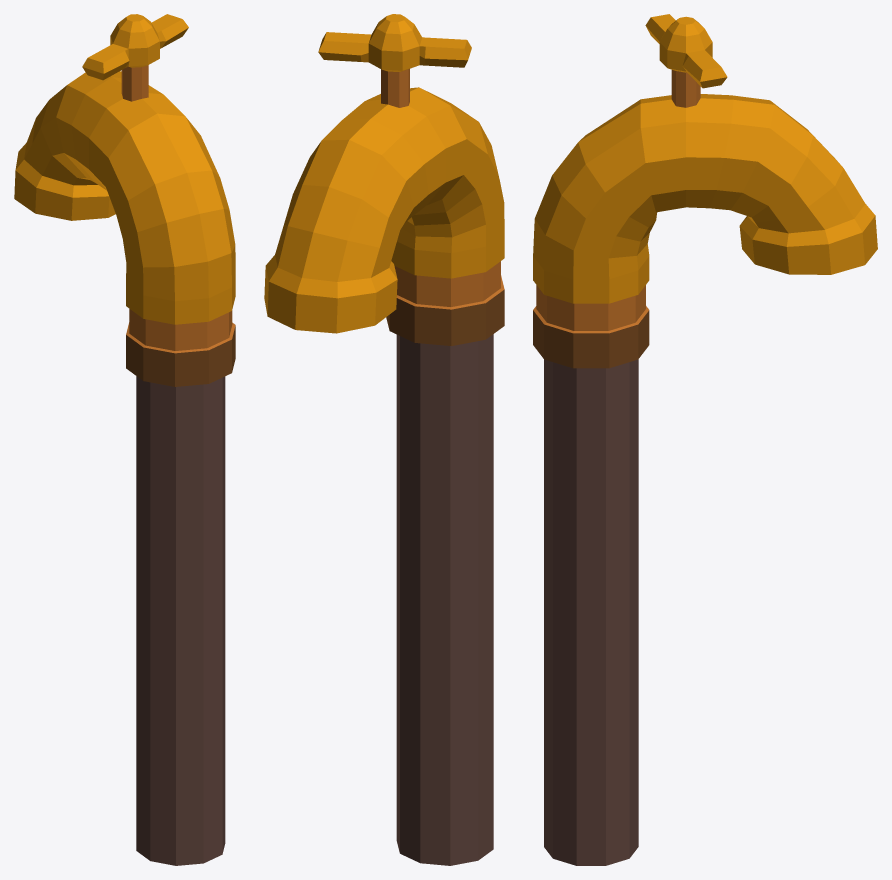
Rendered from waterpipo.fbx.
The picture shows the model from 3 angles, left to right: view 1: azimuth 30°, elevation 25°; view 2: azimuth 150°, elevation 25°; view 3: azimuth 270°, elevation 25°; orthographic projection. The views are drawn at different scales.
Parts seen in each view (by area): view 1: waterpipo, water_tap; view 2: waterpipo, water_tap; view 3: waterpipo, water_tap.
Boxes of the visible parts, x1,y1,x2,y2 form: waterpipo: (14, 71, 235, 865); water_tap: (82, 14, 188, 101); waterpipo: (264, 87, 504, 865); water_tap: (318, 14, 471, 107); waterpipo: (533, 94, 877, 865); water_tap: (645, 14, 727, 107).
Size of the model in its own units: 34.85 by 220 by 83.09.
